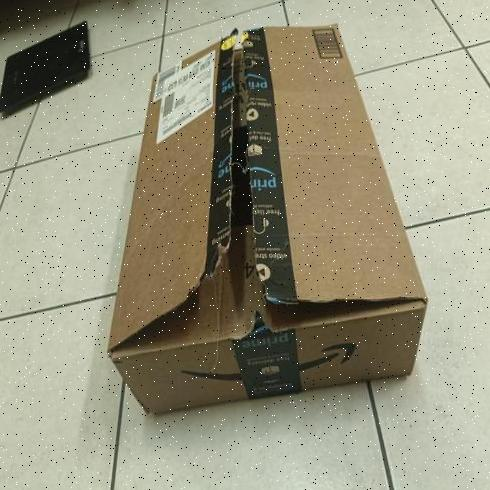Amazon: (115, 22, 432, 399)
